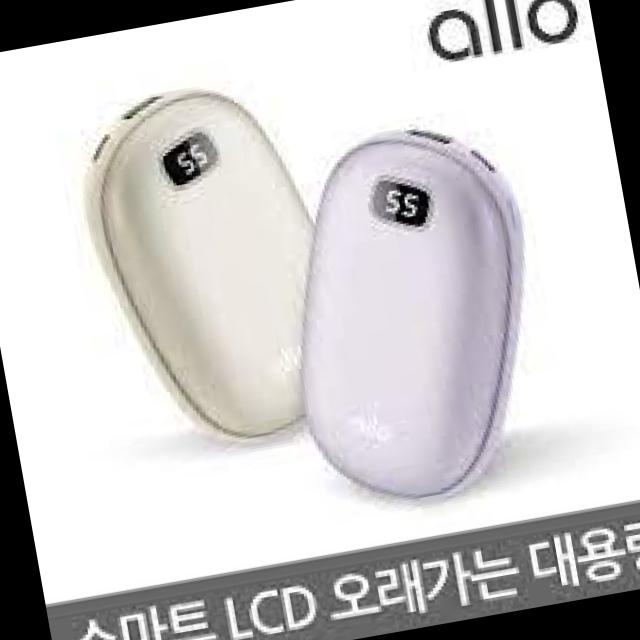portable-charger: (253, 108, 564, 520), (73, 62, 354, 458)
